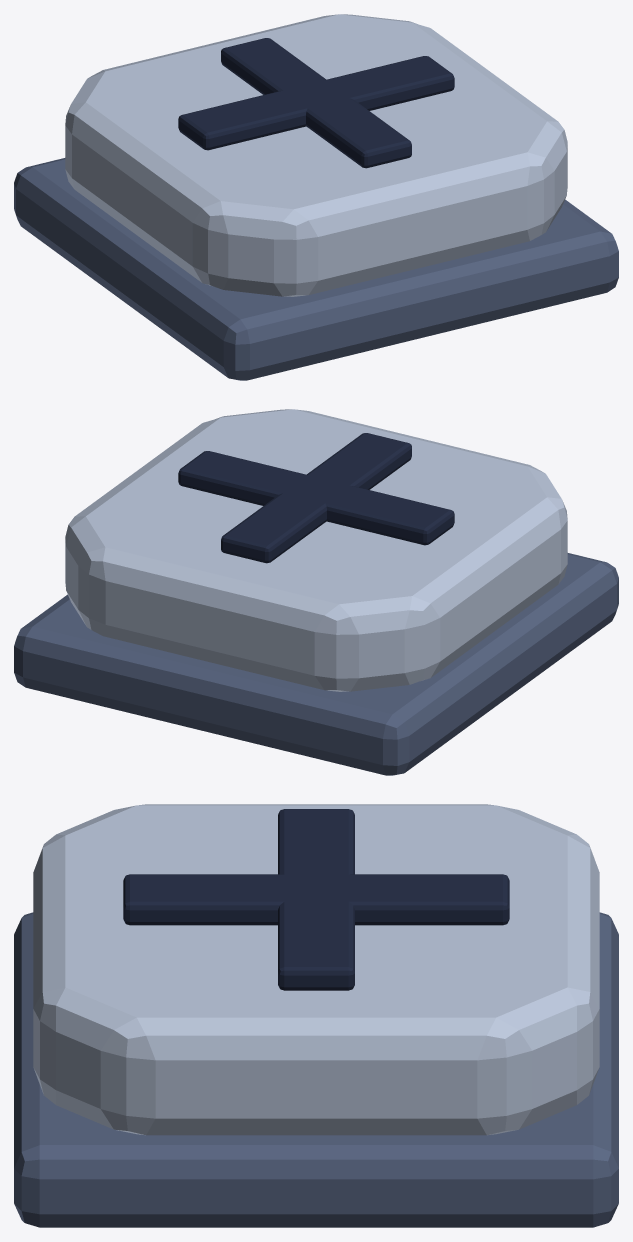
File: mod_armor.glb
The picture shows the model from 3 angles, top to bottom: view 1: azimuth 30°, elevation 25°; view 2: azimuth 150°, elevation 25°; view 3: azimuth 270°, elevation 25°; orthographic projection. The views are drawn at different scales.
Parts seen in each view (by area): view 1: mod_armor; view 2: mod_armor; view 3: mod_armor.
Boxes of the visible parts, x1=… form: mod_armor: x1=14, y1=14, x2=618, y2=380; mod_armor: x1=14, y1=409, x2=618, y2=775; mod_armor: x1=14, y1=804, x2=618, y2=1227.
Size of the model in its own units: 0.94 by 0.38 by 0.94.
